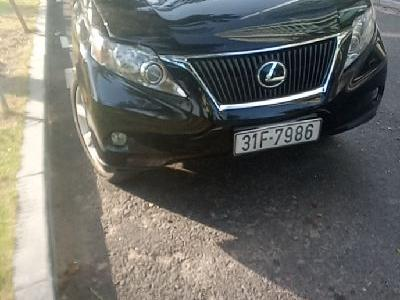lisence: (233, 118, 322, 156)
